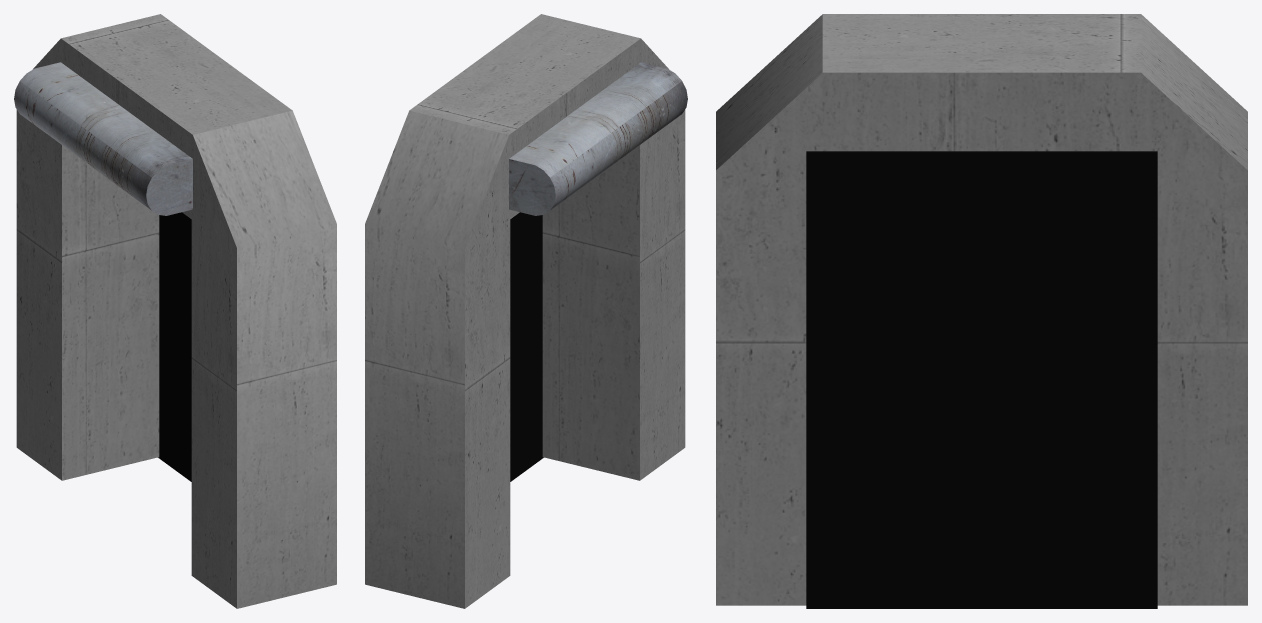
The model's file is dooropen_fix.FBX.
The picture shows the model from 3 angles, left to right: view 1: azimuth 30°, elevation 25°; view 2: azimuth 150°, elevation 25°; view 3: azimuth 270°, elevation 25°; orthographic projection. The views are drawn at different scales.
Parts seen in each view (by area): view 1: Box007, Cylinder001, Box008; view 2: Box007, Cylinder001, Box008; view 3: Box008, Box007.
Part boxes in pixels (box(x1,y1,x2,y2)): Box007: box(16, 14, 336, 608); Cylinder001: box(14, 62, 192, 215); Box008: box(158, 212, 191, 481); Box007: box(365, 14, 685, 608); Cylinder001: box(509, 62, 687, 215); Box008: box(510, 212, 543, 481); Box008: box(806, 151, 1157, 608); Box007: box(716, 14, 1247, 605).
Size of the model in its own units: 12.83 by 36.36 by 32.79.
Materials: 1 (1 with a texture image).
